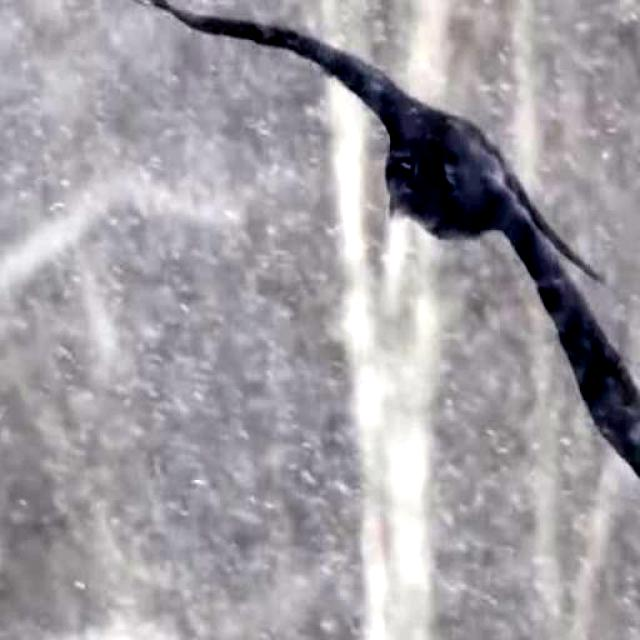airplane: (118, 0, 640, 592)
